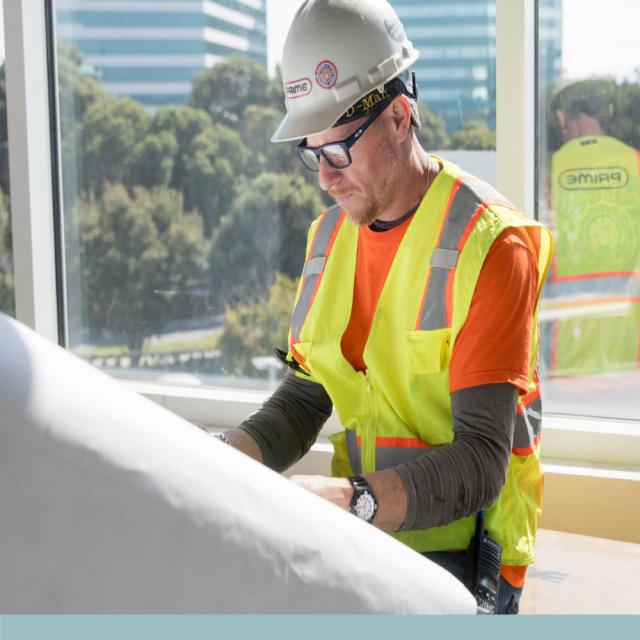Reflective-Jacket: (292, 174, 554, 580), (536, 133, 639, 396)
Safety-Helmet: (268, 0, 424, 152)
